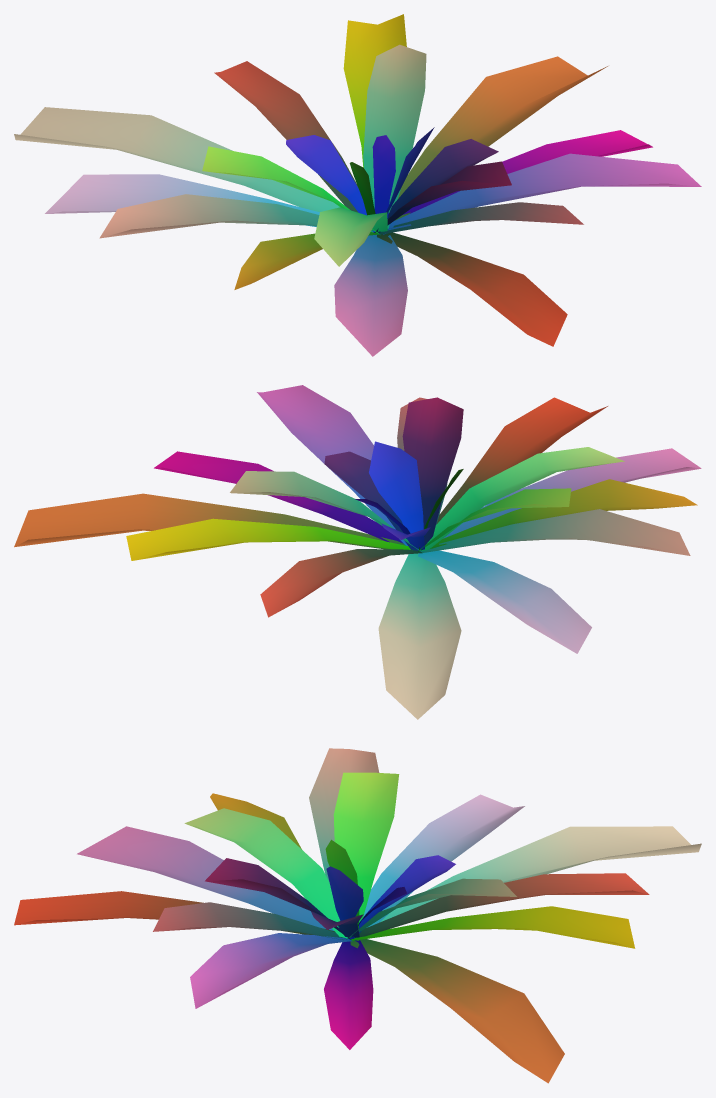
File: Curbside_Weeds_ujzjfexja_Mid_ujzjfexja_VarD_LOD0.fbx
The picture shows the model from 3 angles, top to bottom: view 1: azimuth 30°, elevation 25°; view 2: azimuth 150°, elevation 25°; view 3: azimuth 270°, elevation 25°; orthographic projection. The views are drawn at different scales.
Visible parts, largest first — view 1: _ymqr_VarD_LOD1; view 2: _ymqr_VarD_LOD1; view 3: _ymqr_VarD_LOD1.
Boxes of the visible parts, x1,y1,x2,y2 form: _ymqr_VarD_LOD1: [14, 14, 701, 356]; _ymqr_VarD_LOD1: [14, 385, 701, 719]; _ymqr_VarD_LOD1: [14, 748, 701, 1083].
Bounding box in the file's own units: 11.83 × 2.03 × 12.33.
